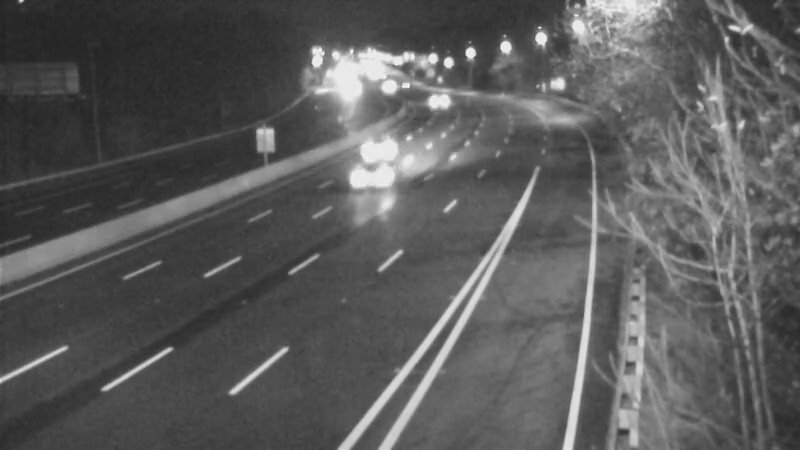vehicle: (331, 138, 411, 218), (361, 62, 411, 112), (410, 74, 460, 124), (346, 122, 396, 172)
